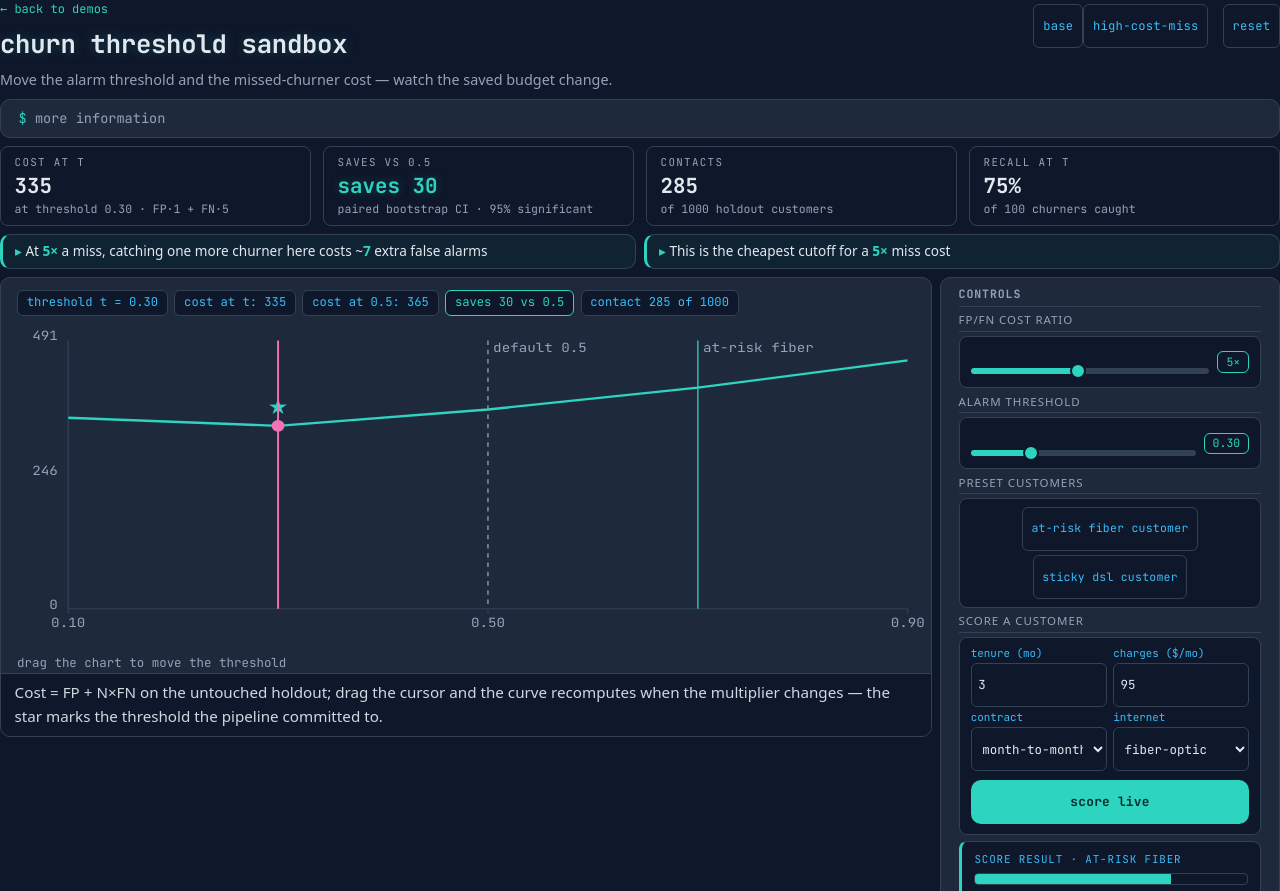
ChurnSandbox › renders two capitalized notice tiles that both react to the FN slider
Expected: the text "cost at t: 335" is shown, [174,290,296,316]
Expected: the element with class "wb-notice-strip" is shown, [0,234,1279,269]
Set the slider labelled "FP/FN cost ratio" to "1": (979, 362) [971,340,1209,384]
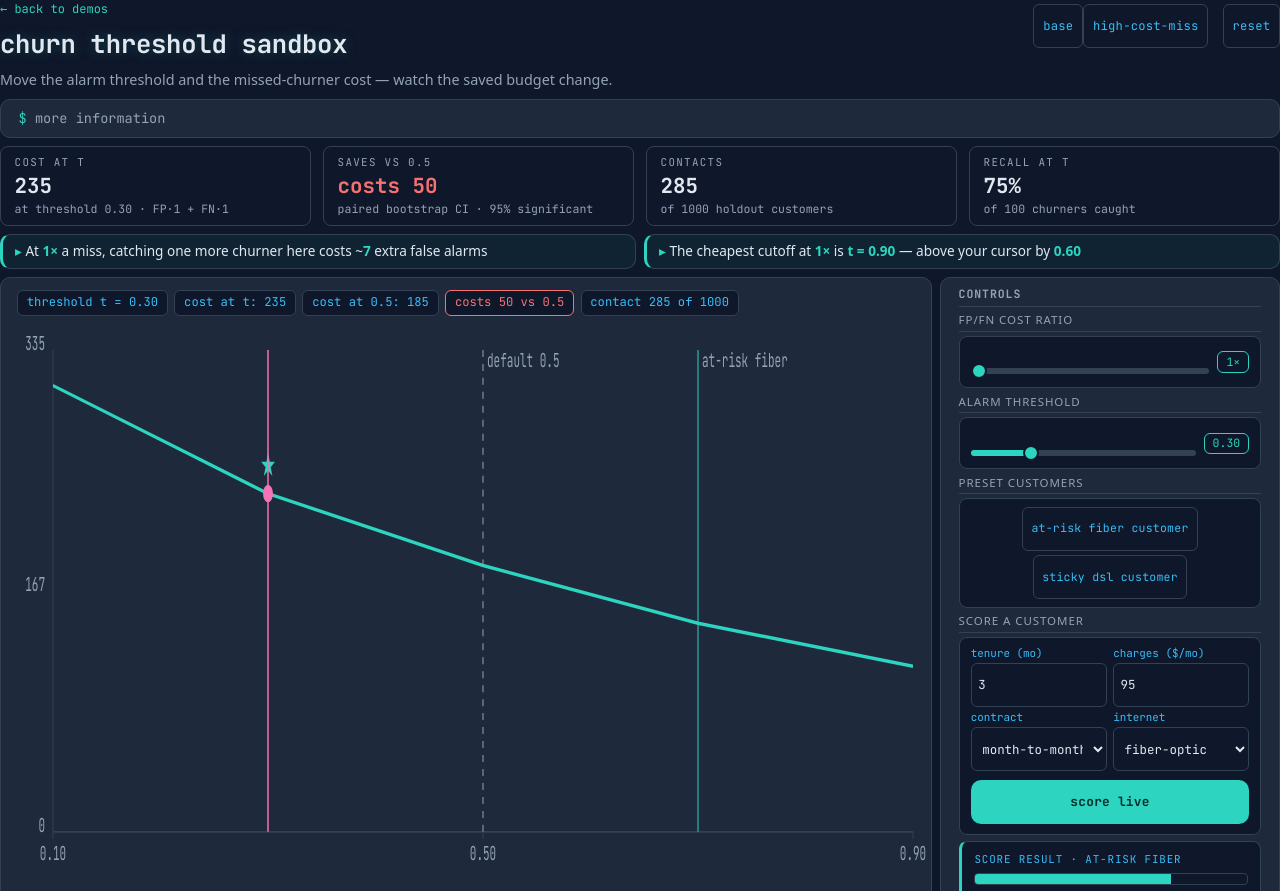
Now the element with class "wb-notice" shows "At 1× a miss, catching one more churner here costs ~7 extra false alarms", box [0,234,636,269]
Now the element with class "wb-notice" shows "The cheapest cutoff at 1× is t = 0.90 — above your cursor by 0.60", box [644,234,1279,269]
